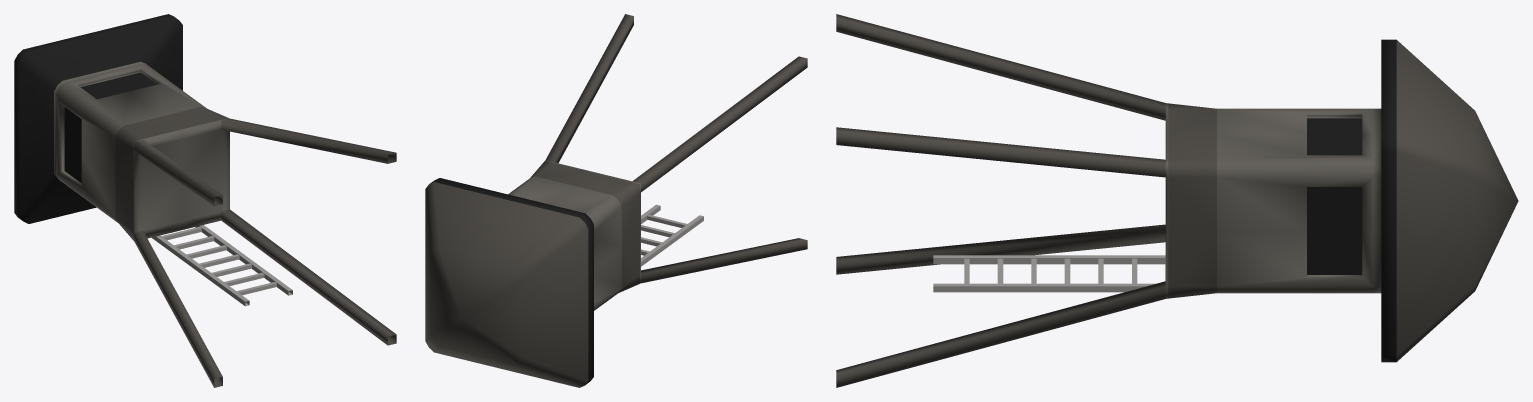
File: DeerStand.fbx
3 views of the same model, side by side, from view 1: azimuth 30°, elevation 25°; view 2: azimuth 150°, elevation 25°; view 3: azimuth 270°, elevation 25° (orthographic). The views are drawn at different scales.
Visible parts, largest first — view 1: mesh_deerstand, mesh_deerstand_ladder; view 2: mesh_deerstand, mesh_deerstand_ladder; view 3: mesh_deerstand, mesh_deerstand_ladder.
Boxes of the visible parts, x1,y1,x2,y2 form: mesh_deerstand: (14, 14, 396, 387); mesh_deerstand_ladder: (152, 225, 292, 306); mesh_deerstand: (425, 14, 807, 387); mesh_deerstand_ladder: (641, 204, 703, 266); mesh_deerstand: (836, 14, 1518, 387); mesh_deerstand_ladder: (933, 255, 1165, 292).
Bounding box in the file's own units: 420 × 420 × 1018.
